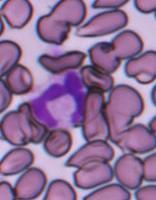N: (29, 68, 86, 130)
